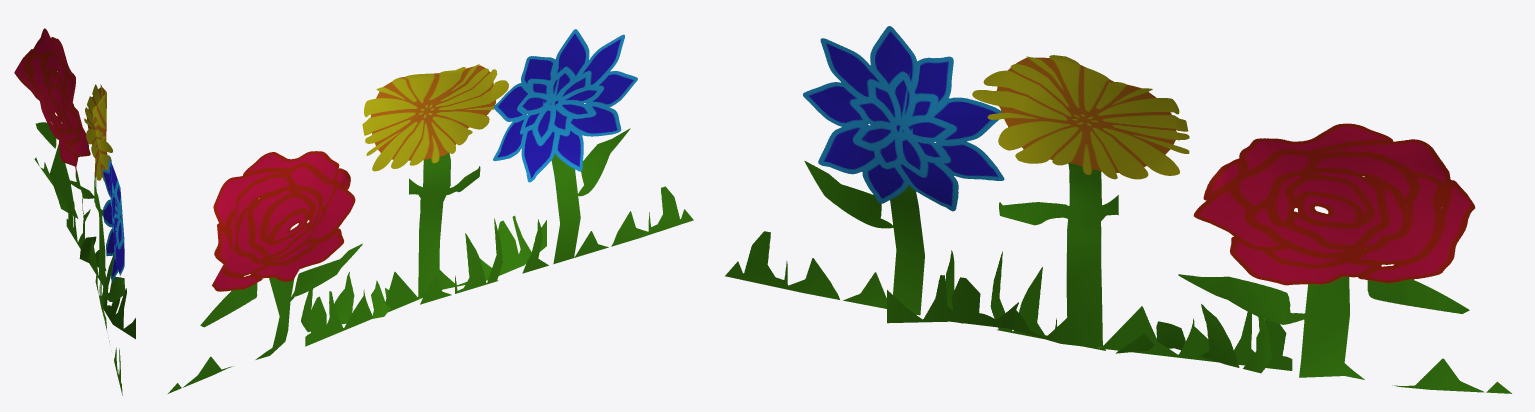
Rendered from Flower_Bed_2.fbx.
3 renders of one model, left to right at view 1: azimuth 30°, elevation 25°; view 2: azimuth 150°, elevation 25°; view 3: azimuth 270°, elevation 25°, orthographic. The views are drawn at different scales.
Visible parts, largest first — view 1: FlowerFour3, Flower8, Flower9; view 2: FlowerFour3, Flower9, Flower8; view 3: FlowerFour3, Flower8, Flower9.
Part boxes in pixels (box(x1,y1,x2,y2)): FlowerFour3: box(14, 28, 106, 270); Flower8: box(66, 84, 135, 339); Flower9: box(95, 155, 124, 395); FlowerFour3: box(168, 151, 390, 393); Flower9: box(420, 29, 693, 304); Flower8: box(305, 64, 546, 346); FlowerFour3: box(1116, 123, 1511, 393); Flower8: box(887, 55, 1292, 370); Flower9: box(725, 26, 1105, 350).
Bounding box in the file's own units: 0.7192 × 0.7515 × 1.9.
3 materials, 3 textured.
